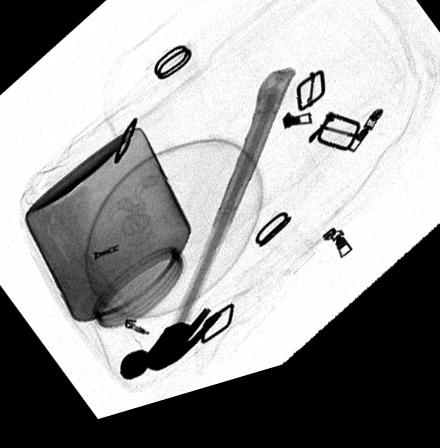Hammer: (120, 83, 295, 388)
